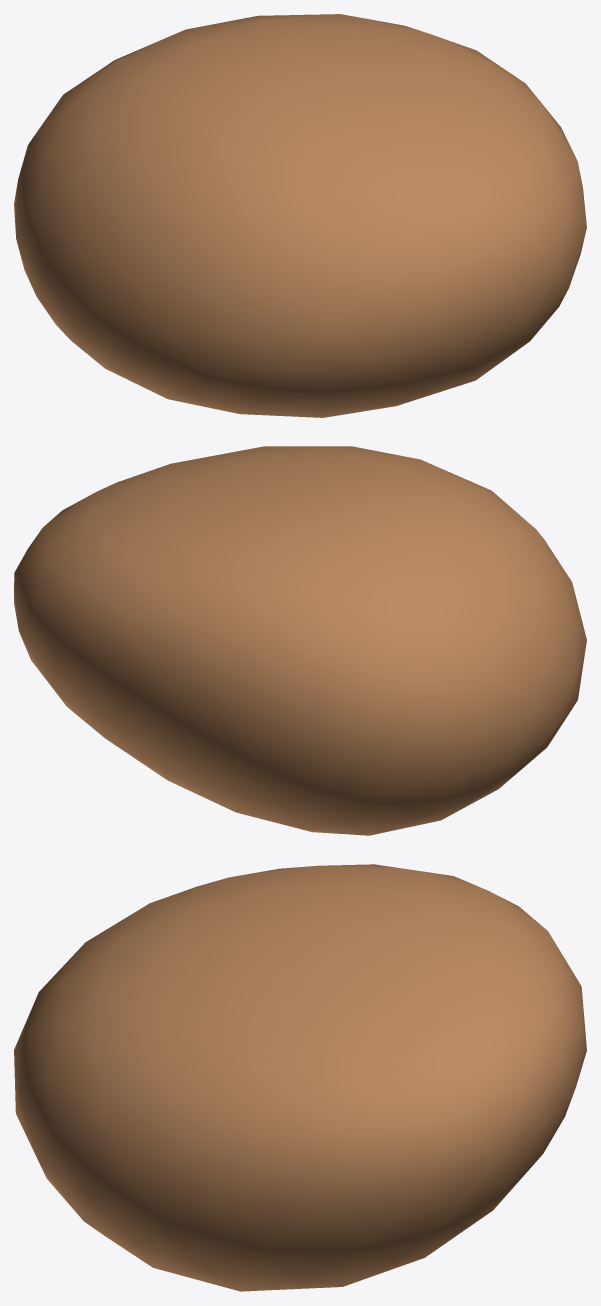
Rendered from redrock.glb.
The picture shows the model from 3 angles, top to bottom: view 1: azimuth 30°, elevation 25°; view 2: azimuth 150°, elevation 25°; view 3: azimuth 270°, elevation 25°; orthographic projection. The views are drawn at different scales.
Parts seen in each view (by area): view 1: rock; view 2: rock; view 3: rock.
Part boxes in pixels (x1,y1,x2,y2): rock: (14,14,586,417); rock: (14,446,586,835); rock: (14,864,586,1291).
Bounding box in the file's own units: 4.63 × 2.75 × 4.3.
